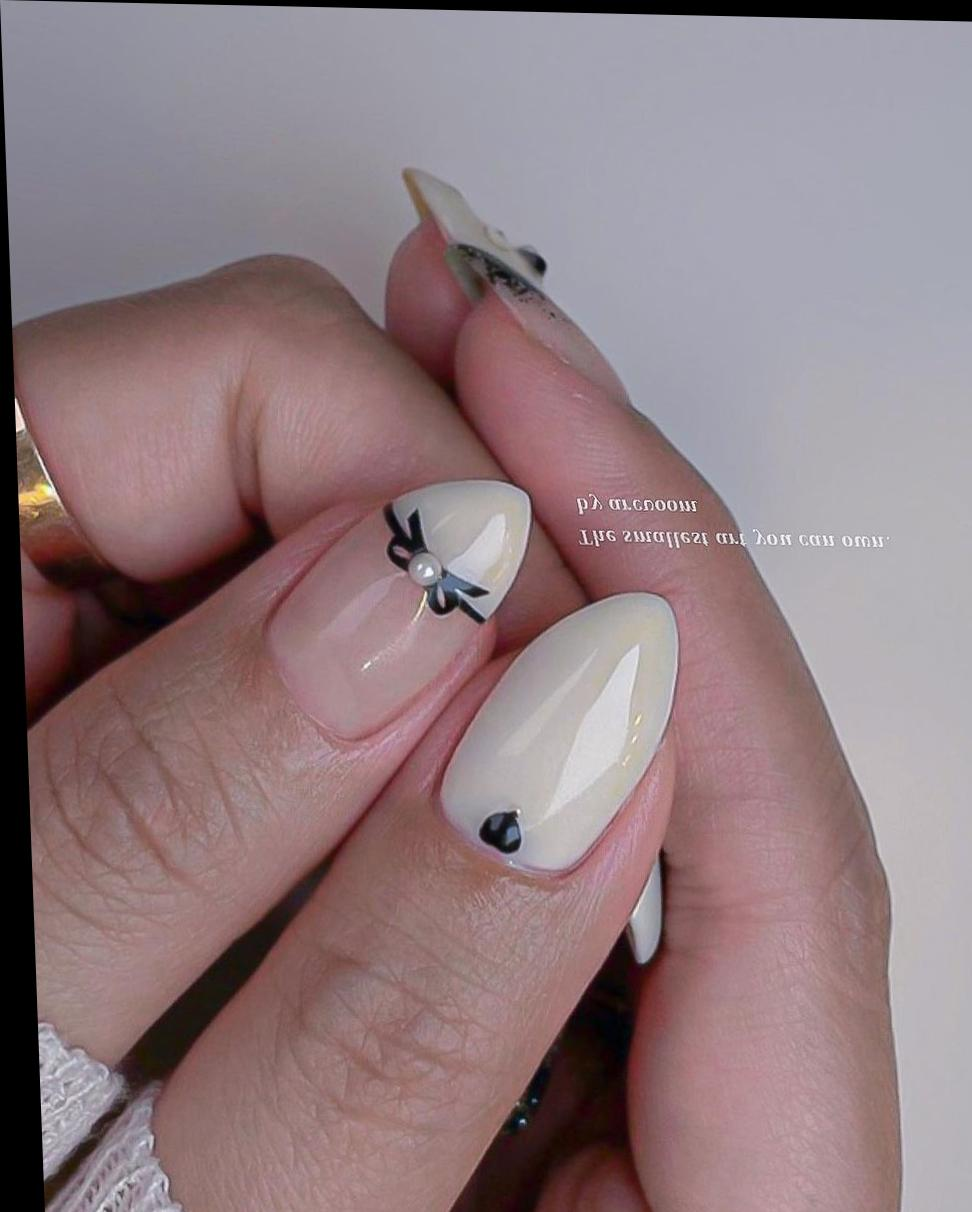nail: (255, 472, 542, 749), (427, 585, 689, 884)
